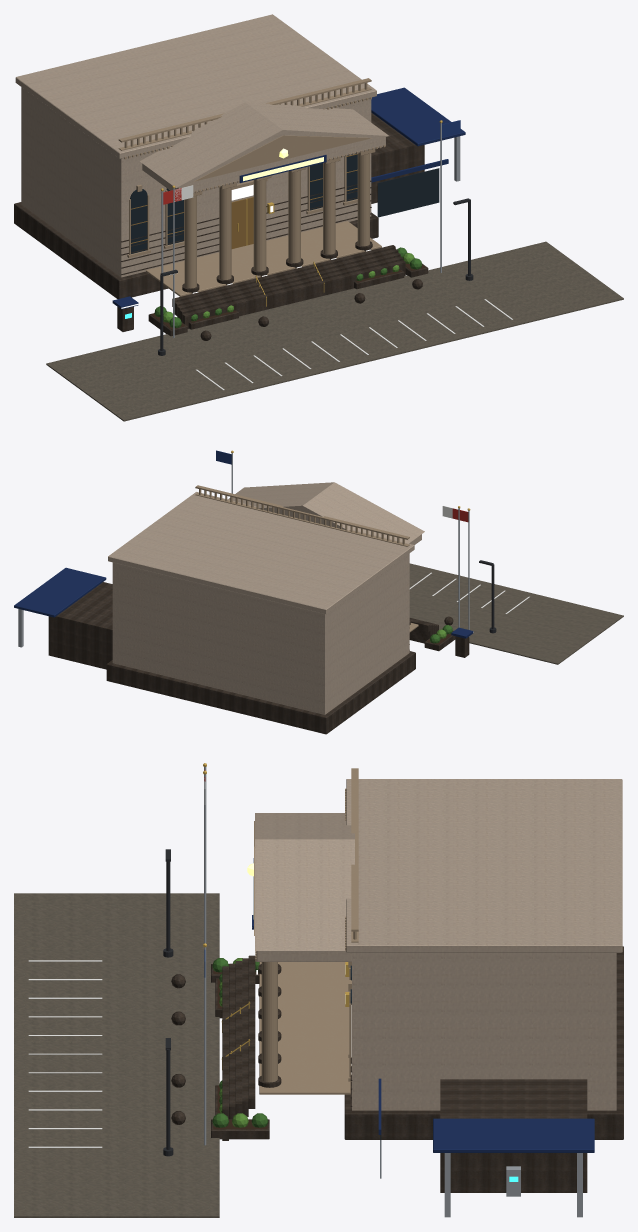
The model's file is OT_Bank_B.glb.
3 views of the same model, one above another, from view 1: azimuth 30°, elevation 25°; view 2: azimuth 150°, elevation 25°; view 3: azimuth 270°, elevation 25° (orthographic). The views are drawn at different scales.
Visible parts, largest first — view 1: OT_Bank_B_Limestone, OT_Bank_B_Pavement, OT_Bank_B_Marble, OT_Bank_B_Granite, OT_Bank_B_Glass__1e2a33, OT_Bank_B_BankNavy__1b2f5c, OT_Bank_B_Bronze__8a6a3a, OT_Bank_B_SteelGrey__9aa0a6, OT_Bank_B_PoleDark__2a2c30, OT_Bank_B_PaintWhite__f0f0ee, OT_Bank_B_Shrub__3e6b2f; view 2: OT_Bank_B_Limestone, OT_Bank_B_Granite, OT_Bank_B_Pavement, OT_Bank_B_BankNavy__1b2f5c, OT_Bank_B_Marble, OT_Bank_B_SteelGrey__9aa0a6; view 3: OT_Bank_B_Limestone, OT_Bank_B_Pavement, OT_Bank_B_Granite, OT_Bank_B_Marble, OT_Bank_B_BankNavy__1b2f5c, OT_Bank_B_SteelGrey__9aa0a6, OT_Bank_B_PaintWhite__f0f0ee, OT_Bank_B_PoleDark__2a2c30, OT_Bank_B_Shrub__3e6b2f.
Part boxes in pixels (x1=…): OT_Bank_B_Limestone: x1=15, y1=14, x2=388, y2=277; OT_Bank_B_Pavement: x1=46, y1=241, x2=623, y2=421; OT_Bank_B_Marble: x1=118, y1=78, x2=385, y2=296; OT_Bank_B_Granite: x1=14, y1=112, x2=428, y2=340; OT_Bank_B_Glass__1e2a33: x1=130, y1=153, x2=439, y2=253; OT_Bank_B_BankNavy__1b2f5c: x1=112, y1=87, x2=465, y2=309; OT_Bank_B_Bronze__8a6a3a: x1=131, y1=154, x2=357, y2=248; OT_Bank_B_SteelGrey__9aa0a6: x1=161, y1=123, x2=460, y2=337; OT_Bank_B_PoleDark__2a2c30: x1=158, y1=198, x2=473, y2=355; OT_Bank_B_PaintWhite__f0f0ee: x1=196, y1=299, x2=512, y2=390; OT_Bank_B_Shrub__3e6b2f: x1=154, y1=247, x2=422, y2=327; OT_Bank_B_Limestone: x1=108, y1=482, x2=424, y2=714; OT_Bank_B_Granite: x1=48, y1=582, x2=469, y2=734; OT_Bank_B_Pavement: x1=409, y1=563, x2=623, y2=664; OT_Bank_B_BankNavy__1b2f5c: x1=14, y1=567, x2=473, y2=638; OT_Bank_B_Marble: x1=195, y1=485, x2=418, y2=632; OT_Bank_B_SteelGrey__9aa0a6: x1=18, y1=453, x2=469, y2=647; OT_Bank_B_Limestone: x1=255, y1=779, x2=622, y2=1110; OT_Bank_B_Pavement: x1=14, y1=893, x2=219, y2=1217; OT_Bank_B_Granite: x1=171, y1=946, x2=623, y2=1192; OT_Bank_B_Marble: x1=254, y1=768, x2=358, y2=1094; OT_Bank_B_BankNavy__1b2f5c: x1=252, y1=858, x2=594, y2=1152; OT_Bank_B_SteelGrey__9aa0a6: x1=204, y1=767, x2=582, y2=1217; OT_Bank_B_PaintWhite__f0f0ee: x1=28, y1=960, x2=102, y2=1147; OT_Bank_B_PoleDark__2a2c30: x1=163, y1=849, x2=173, y2=1156; OT_Bank_B_Shrub__3e6b2f: x1=212, y1=958, x2=268, y2=1127.
Size of the model in its own units: 52 by 17.3 by 41.5.
22 materials, 4 textured.
